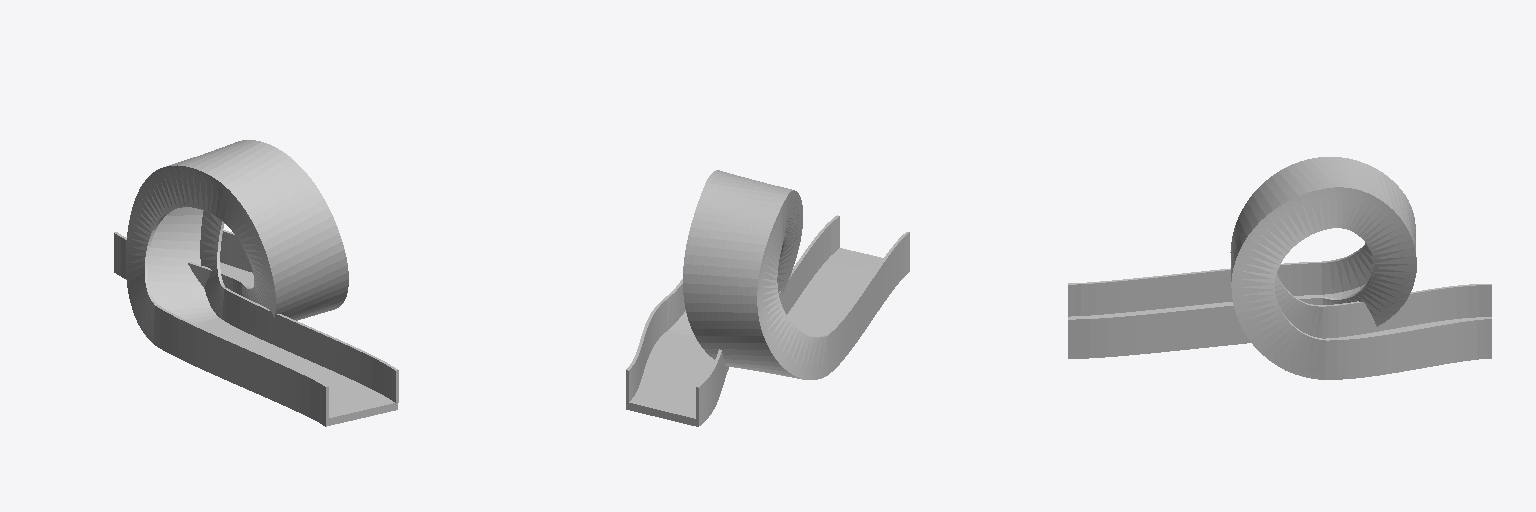
The model's file is Loop.obj.
3 views of the same model, side by side, from view 1: azimuth 30°, elevation 25°; view 2: azimuth 150°, elevation 25°; view 3: azimuth 270°, elevation 25° (orthographic).
Parts seen in each view (by area): view 1: Cube.002; view 2: Cube.002; view 3: Cube.002.
Boxes of the visible parts, box(x1,y1,x2,y2) form: Cube.002: box(114, 140, 398, 426); Cube.002: box(626, 170, 909, 426); Cube.002: box(1068, 157, 1491, 379).
Size of the model in its own units: 22.22 by 22.46 by 50.35.